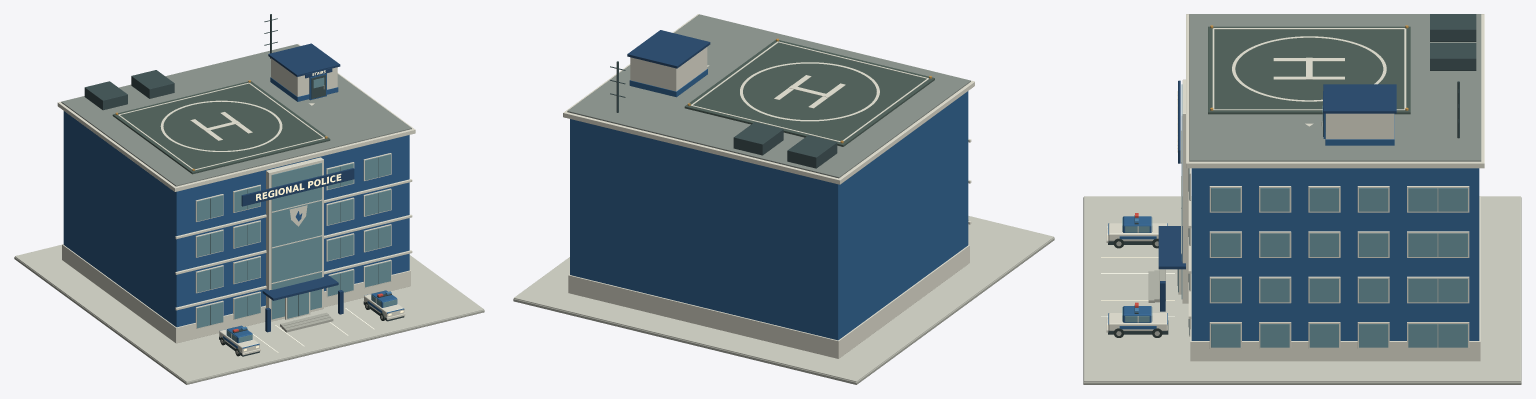
File: regional-police-station.glb
The picture shows the model from 3 angles, left to right: view 1: azimuth 30°, elevation 25°; view 2: azimuth 150°, elevation 25°; view 3: azimuth 270°, elevation 25°; orthographic projection. The views are drawn at different scales.
Visible parts, largest first — view 1: Headquarters, Paving, RoofDeck, HelipadDeck, CentralGlassAtrium, GroundStoneBase, RoofCornice, Lot, StairBulkheadRoof, CentralGlassFrame, HeadquartersBrand, RooftopStairBulkhead (+23 smaller); view 2: Headquarters, RoofDeck, Paving, HelipadDeck, GroundStoneBase, RoofCornice, Lot, StairBulkheadRoof, RooftopStairBulkhead, RoofPlant, RoofPlant.001, HelipadCircle (+1 smaller); view 3: Headquarters, Paving, RoofDeck, HelipadDeck, GroundStoneBase, RoofCornice, StairBulkheadRoof, RooftopStairBulkhead, Lot, RoofPlant, RoofPlant.001, CentralGlassFrame (+31 smaller).
Part boxes in pixels (left/top/right/bottom): Headquarters: left=63, top=111, right=409, bottom=327; Paving: left=15, top=244, right=483, bottom=382; RoofDeck: left=61, top=44, right=411, bottom=186; HelipadDeck: left=112, top=81, right=330, bottom=174; CentralGlassAtrium: left=271, top=163, right=321, bottom=319; GroundStoneBase: left=62, top=244, right=410, bottom=343; RoofCornice: left=57, top=44, right=415, bottom=191; Lot: left=14, top=257, right=484, bottom=384; StairBulkheadRoof: left=268, top=43, right=340, bottom=76; CentralGlassFrame: left=266, top=157, right=323, bottom=321; HeadquartersBrand: left=241, top=168, right=354, bottom=206; RooftopStairBulkhead: left=271, top=58, right=337, bottom=96; Headquarters: left=570, top=91, right=968, bottom=340; RoofDeck: left=567, top=14, right=970, bottom=178; Paving: left=514, top=216, right=1053, bottom=381; HelipadDeck: left=684, top=40, right=934, bottom=146; GroundStoneBase: left=568, top=244, right=969, bottom=358; RoofCornice: left=563, top=14, right=974, bottom=184; Lot: left=513, top=237, right=1054, bottom=384; StairBulkheadRoof: left=627, top=30, right=710, bottom=68; RooftopStairBulkhead: left=630, top=47, right=707, bottom=91; RoofPlant: left=787, top=135, right=837, bottom=168; RoofPlant.001: left=733, top=122, right=783, bottom=155; HelipadCircle: left=740, top=62, right=879, bottom=121; Headquarters: left=1191, top=168, right=1479, bottom=340; Paving: left=1084, top=196, right=1520, bottom=381; RoofDeck: left=1189, top=14, right=1481, bottom=161; HelipadDeck: left=1208, top=26, right=1410, bottom=114; GroundStoneBase: left=1190, top=196, right=1480, bottom=361; RoofCornice: left=1186, top=14, right=1484, bottom=168; StairBulkheadRoof: left=1323, top=84, right=1396, bottom=113; RooftopStairBulkhead: left=1325, top=113, right=1394, bottom=139; Lot: left=1083, top=197, right=1521, bottom=384; RoofPlant: left=1430, top=14, right=1476, bottom=41; RoofPlant.001: left=1430, top=43, right=1476, bottom=70; CentralGlassFrame: left=1182, top=79, right=1188, bottom=303.
Size of the model in its own units: 32 by 22.48 by 32.
